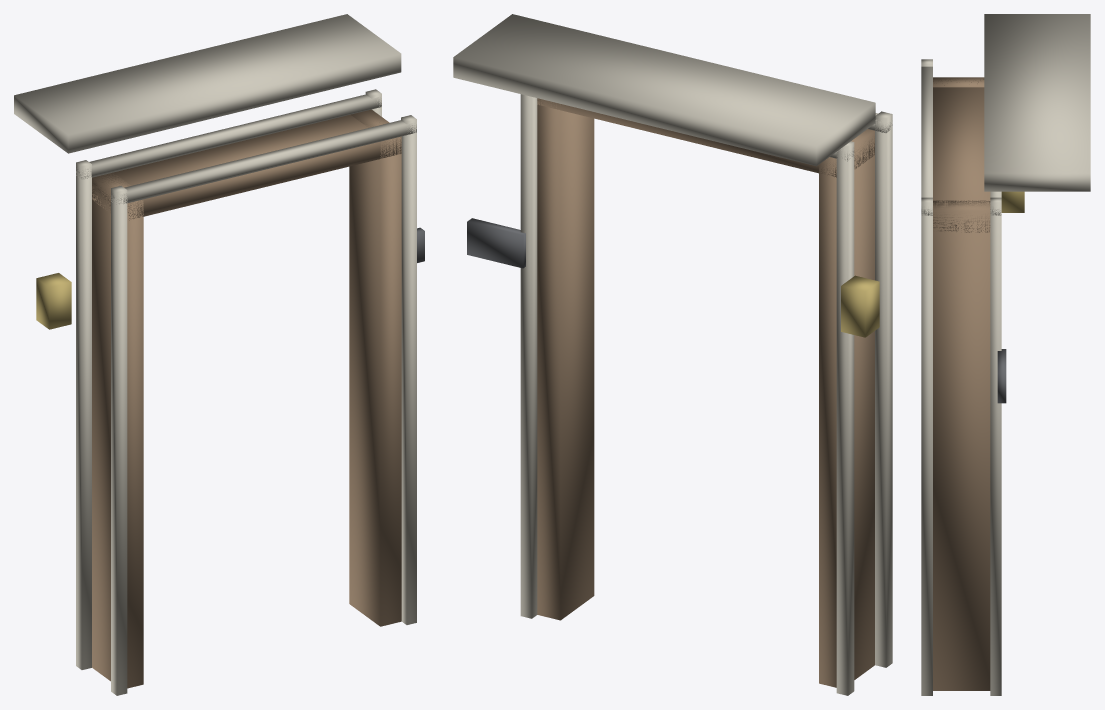
The model's file is doorway_motel_w106_h200_d24.glb.
3 views of the same model, side by side, from view 1: azimuth 30°, elevation 25°; view 2: azimuth 150°, elevation 25°; view 3: azimuth 270°, elevation 25° (orthographic). The views are drawn at different scales.
Parts seen in each view (by area): view 1: world; view 2: world; view 3: world.
Boxes of the visible parts, <box> form: world: <box>14,14,424,695</box>; world: <box>453,14,892,695</box>; world: <box>921,14,1090,695</box>.
Bounding box in the file's own units: 1.68 × 2.32 × 0.6689.
